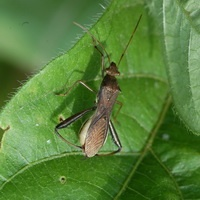insect: (55, 24, 121, 156), (57, 109, 95, 146)
